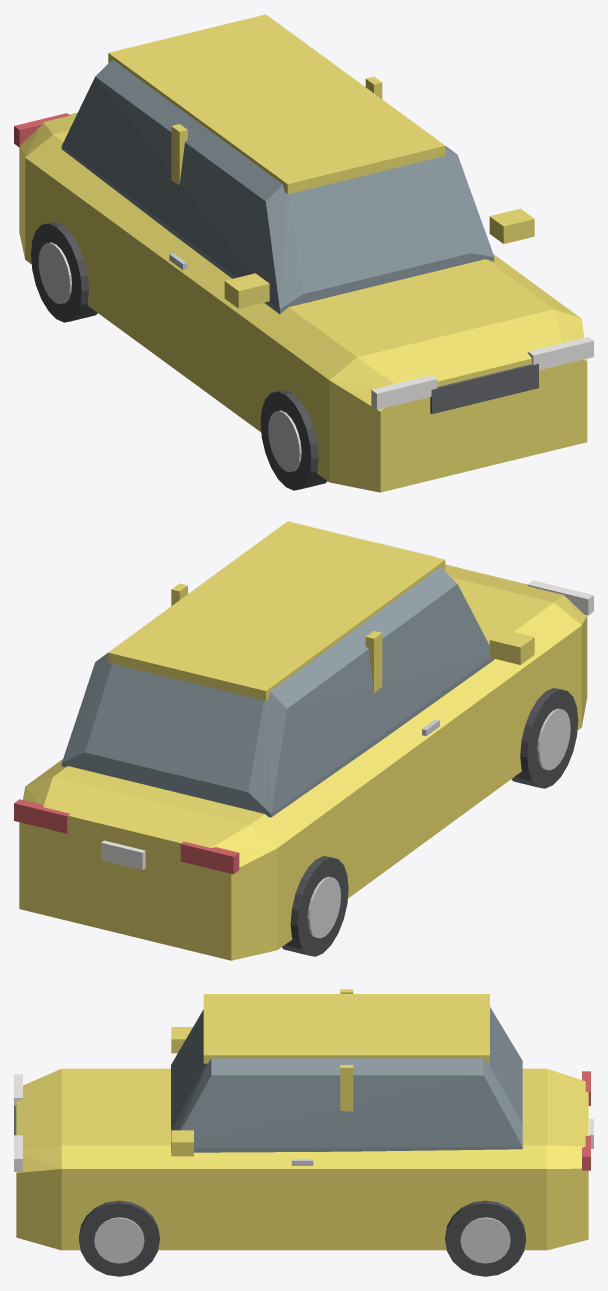
Rendered from urus-se-2026.glb.
3 renders of one model, top to bottom at view 1: azimuth 30°, elevation 25°; view 2: azimuth 150°, elevation 25°; view 3: azimuth 270°, elevation 25°, orthographic. The views are drawn at different scales.
Visible parts, largest first — view 1: body, cabin_glass, roof, wheel_-1_1_tire, wheel_-1_-1_tire, grille, wheel_-1_-1_rim, wheel_-1_1_rim, headlight_-1, headlight_1, mirror_-1, mirror_1 (+1 smaller); view 2: body, cabin_glass, roof, wheel_-1_1_tire, wheel_-1_-1_tire, wheel_-1_1_rim, wheel_-1_-1_rim, taillight_-1, mirror_-1, taillight_1, rear_plate, pillar_-1 (+1 smaller); view 3: body, cabin_glass, roof, wheel_1_-1_tire, wheel_1_1_tire, wheel_1_1_rim, wheel_1_-1_rim, pillar_1, mirror_1, mirror_-1.
Boxes of the visible parts, box(x1,y1,x2,y2) form: body: box(19, 112, 587, 492); cabin_glass: box(61, 59, 494, 314); roof: box(108, 14, 445, 194); wheel_-1_1_tire: box(260, 390, 327, 490); wheel_-1_-1_tire: box(31, 221, 97, 322); grille: box(430, 364, 538, 413); wheel_-1_-1_rim: box(38, 242, 71, 304); wheel_-1_1_rim: box(268, 410, 301, 472); headlight_-1: box(371, 375, 437, 409); headlight_1: box(527, 336, 593, 370); mirror_-1: box(224, 273, 269, 308); mirror_1: box(489, 208, 534, 243); body: box(19, 564, 587, 960); cabin_glass: box(61, 567, 494, 817); roof: box(108, 521, 445, 701); wheel_-1_1_tire: box(511, 688, 578, 788); wheel_-1_-1_tire: box(282, 856, 348, 956); wheel_-1_1_rim: box(537, 708, 570, 770); wheel_-1_-1_rim: box(307, 876, 340, 938); taillight_-1: box(180, 841, 239, 874); mirror_-1: box(489, 629, 534, 664); taillight_1: box(14, 799, 69, 833); rear_plate: box(101, 840, 145, 870); pillar_-1: box(365, 631, 382, 692); body: box(16, 1068, 588, 1250); cabin_glass: box(171, 1007, 522, 1152); roof: box(203, 994, 489, 1063); wheel_1_-1_tire: box(445, 1200, 525, 1276); wheel_1_1_tire: box(79, 1200, 159, 1276); wheel_1_1_rim: box(94, 1217, 144, 1263); wheel_1_-1_rim: box(460, 1217, 510, 1263); pillar_1: box(340, 1065, 353, 1111); mirror_1: box(171, 1130, 193, 1156); mirror_-1: box(171, 1027, 192, 1053).
Size of the model in its own units: 2.29 by 1.85 by 4.87.
